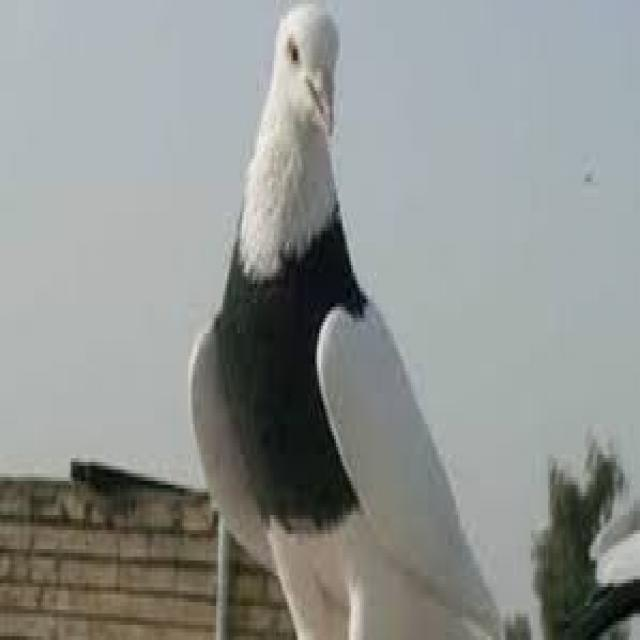bird: (184, 5, 520, 639)
